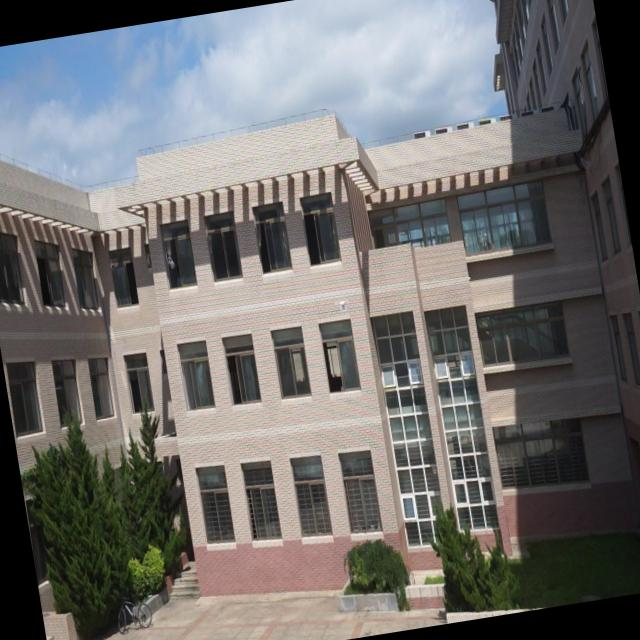drone: (332, 294, 352, 316)
